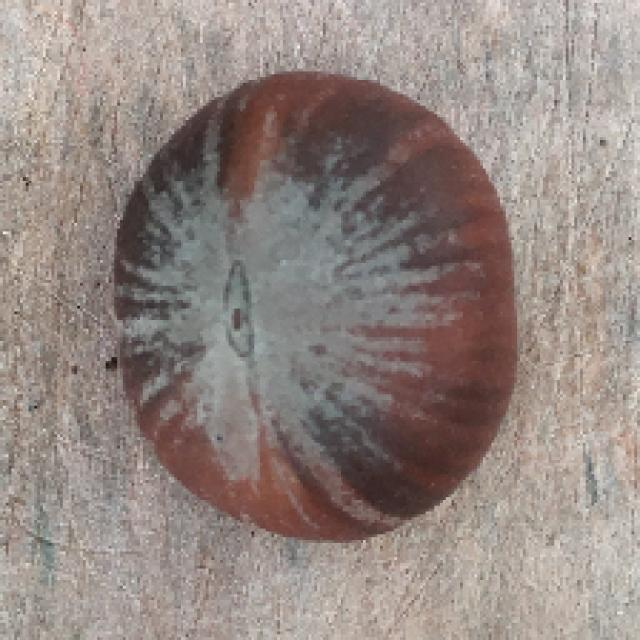damagedHazelnut: (110, 64, 530, 542)
